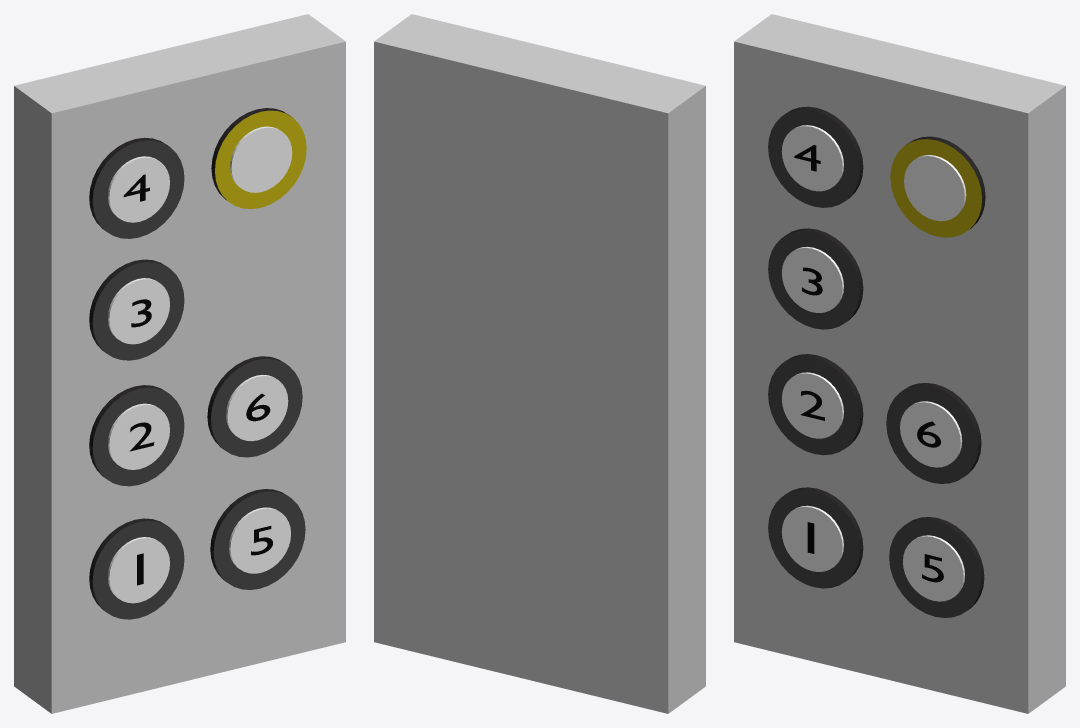
The model's file is lift_btn.obj.
3 renders of one model, left to right at view 1: azimuth 30°, elevation 25°; view 2: azimuth 150°, elevation 25°; view 3: azimuth 330°, elevation 25°, orthographic.
Parts seen in each view (by area): view 1: Cube.003, Circle.014, Circle.004, Circle.008, Circle.007, Circle.016, Circle.011, Circle.013, Circle.017, Circle.005, Circle.009, Circle.010 (+3 smaller); view 2: Cube.003; view 3: Cube.003, Circle.016, Circle.008, Circle.011, Circle.004, Circle.014, Circle.007, Circle.013, Circle.017, Circle.005, Circle.006, Circle.012 (+3 smaller).
Boxes of the visible parts, <box> form: Cube.003: <box>14,14,345,713</box>; Circle.014: <box>207,356,302,457</box>; Circle.004: <box>89,518,184,619</box>; Circle.008: <box>89,259,184,360</box>; Circle.007: <box>89,385,184,486</box>; Circle.016: <box>211,108,306,208</box>; Circle.011: <box>89,137,184,238</box>; Circle.013: <box>210,489,305,589</box>; Circle.017: <box>230,126,292,192</box>; Circle.005: <box>108,537,169,603</box>; Circle.009: <box>108,278,169,344</box>; Circle.010: <box>108,156,169,222</box>; Cube.003: <box>374,14,705,713</box>; Cube.003: <box>734,14,1065,713</box>; Circle.016: <box>890,136,985,237</box>; Circle.008: <box>768,228,863,329</box>; Circle.011: <box>768,106,863,207</box>; Circle.004: <box>768,487,863,588</box>; Circle.014: <box>886,383,981,483</box>; Circle.007: <box>768,354,863,455</box>; Circle.013: <box>889,517,984,617</box>; Circle.017: <box>904,155,966,221</box>; Circle.005: <box>781,505,843,571</box>; Circle.006: <box>781,372,843,438</box>; Circle.012: <box>903,535,964,601</box>.
Bounding box in the file's own units: 1.33 × 2.59 × 0.3407.
